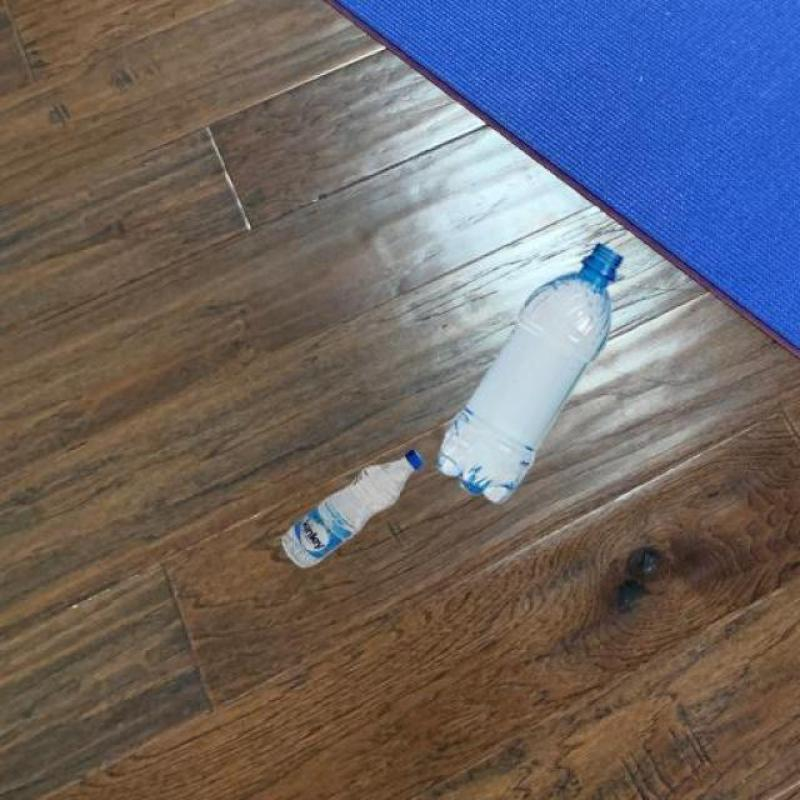botella: (436, 243, 622, 505), (278, 448, 422, 568)
